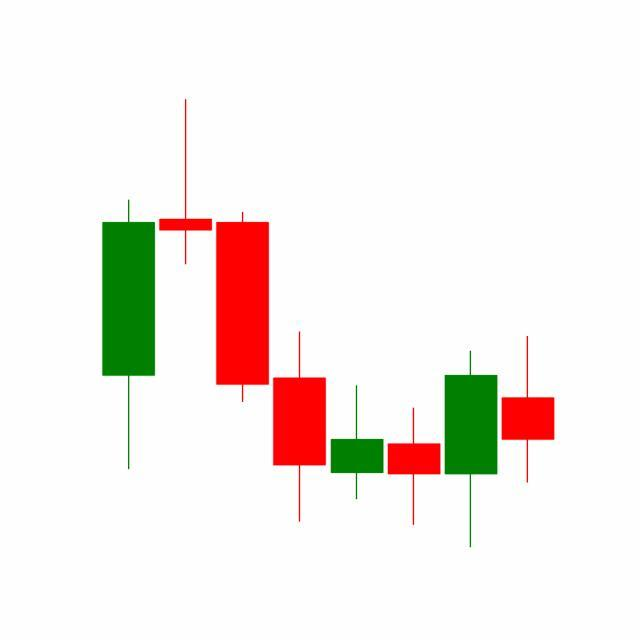Hikkake Pattern: (214, 207, 501, 548)
